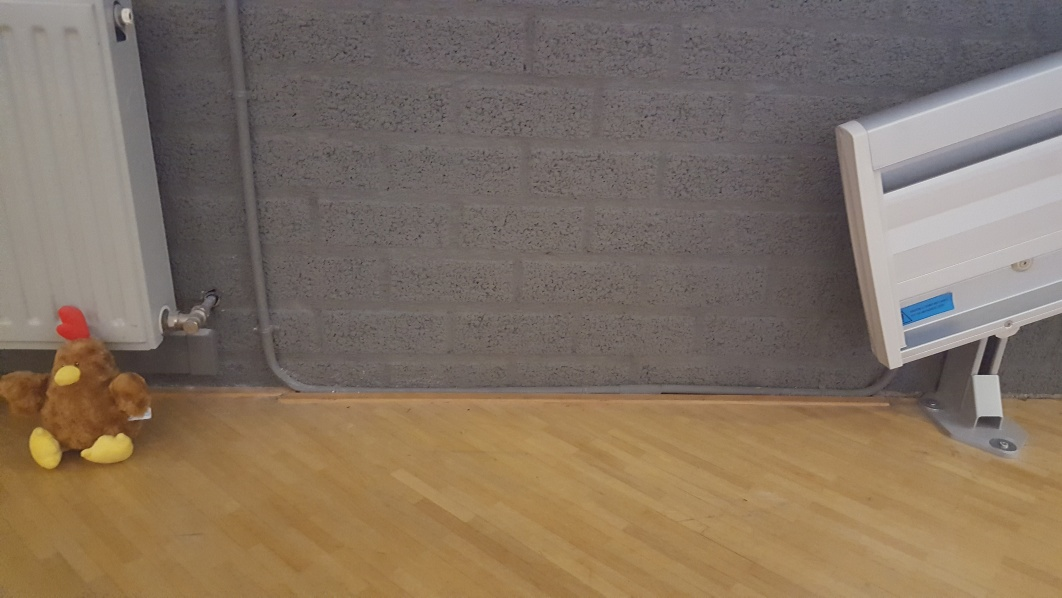chicken: (2, 305, 150, 472)
